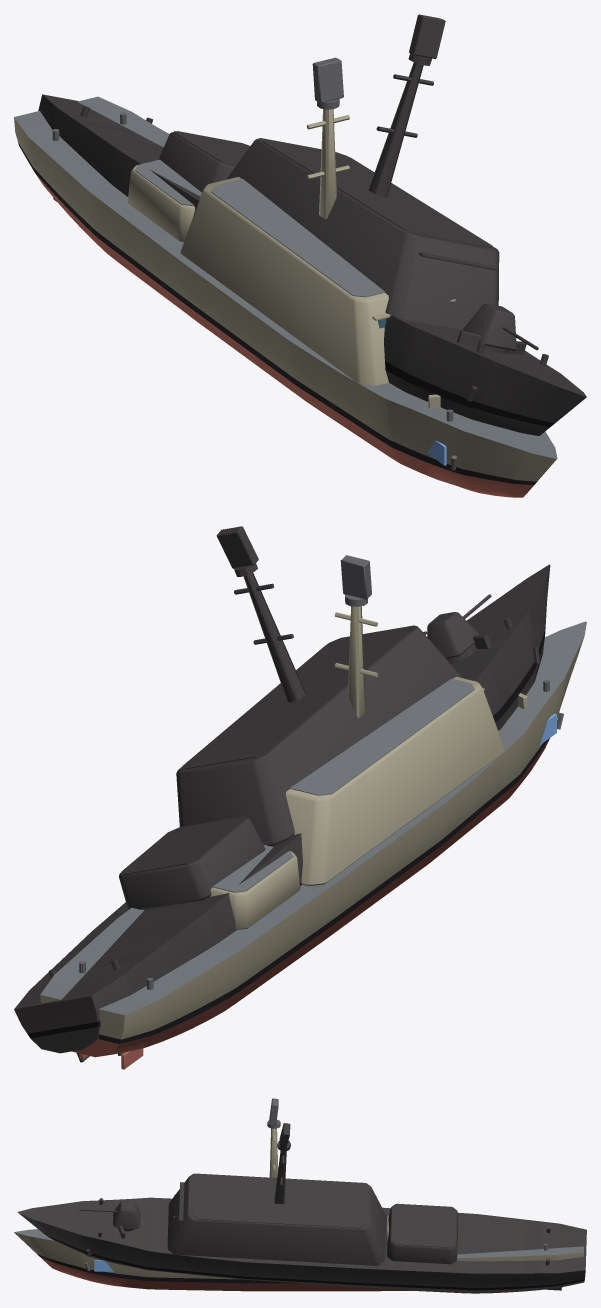
Rendered from gunboat__chamsuri_211_pkmr.glb.
3 views of the same model, one above another, from view 1: azimuth 30°, elevation 25°; view 2: azimuth 150°, elevation 25°; view 3: azimuth 270°, elevation 25° (orthographic). The views are drawn at different scales.
Visible parts, largest first — view 1: Hull_Mesh, Wreck, Radar_Mesh; view 2: Wreck, Hull_Mesh, Radar_Mesh; view 3: Wreck, Hull_Mesh, Radar_Mesh.
Boxes of the visible parts, x1=… form: Hull_Mesh: x1=14, y1=96, x2=557, y2=497; Wreck: x1=38, y1=14, x2=586, y2=435; Radar_Mesh: x1=312, y1=57, x2=343, y2=109; Wreck: x1=14, y1=526, x2=550, y2=1062; Hull_Mesh: x1=40, y1=606, x2=586, y2=1069; Radar_Mesh: x1=340, y1=555, x2=371, y2=606; Wreck: x1=17, y1=1123, x2=586, y2=1293; Hull_Mesh: x1=14, y1=1128, x2=583, y2=1291; Radar_Mesh: x1=267, y1=1098, x2=280, y2=1128.
Size of what is drawn, in the model's own units: 10.31 by 17.31 by 47.13.
